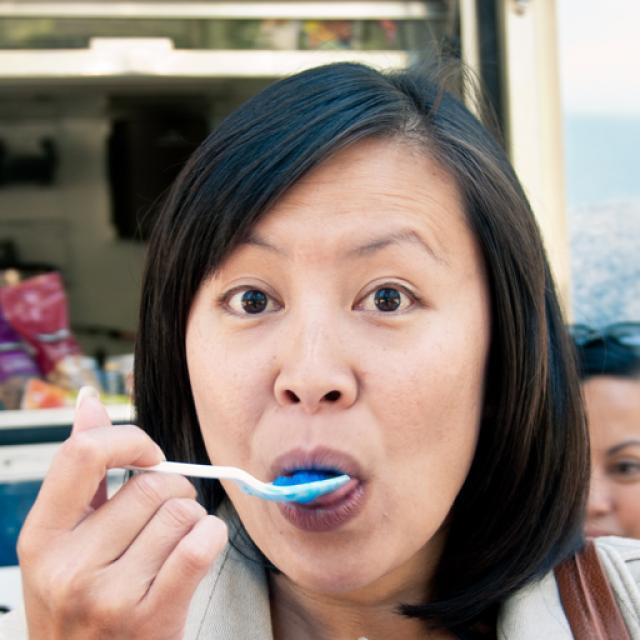surprise: (184, 128, 492, 595)
